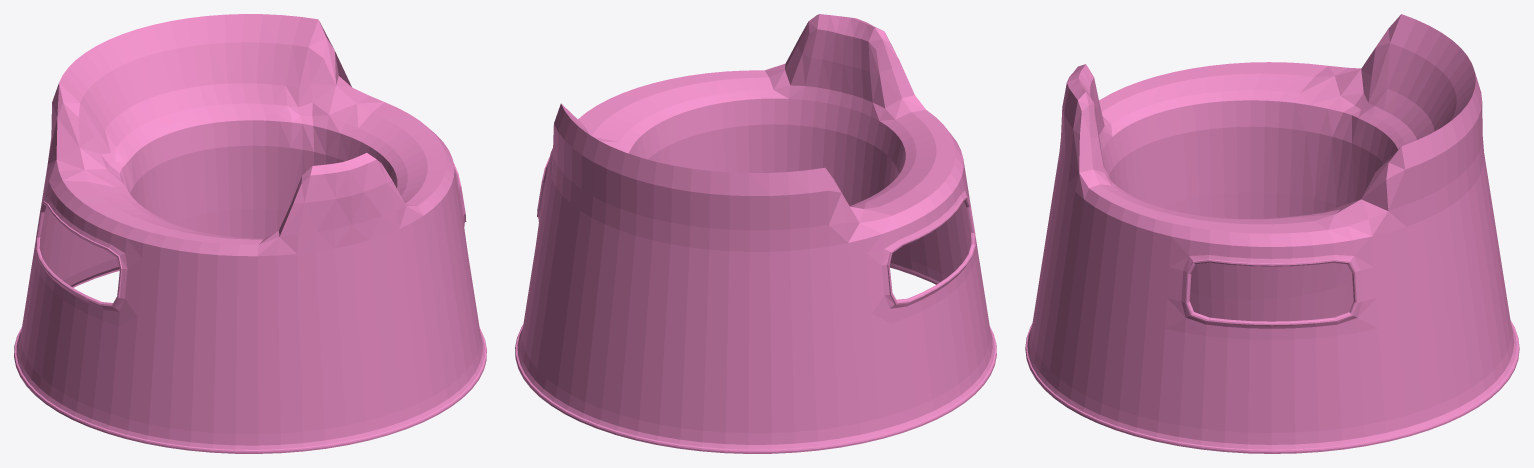
Rendered from sweethome3d-blendswap-cc-0-potty.glb.
The picture shows the model from 3 angles, left to right: view 1: azimuth 30°, elevation 25°; view 2: azimuth 150°, elevation 25°; view 3: azimuth 270°, elevation 25°; orthographic projection. The views are drawn at different scales.
Parts seen in each view (by area): view 1: potty_Cylinder; view 2: potty_Cylinder; view 3: potty_Cylinder.
Boxes of the visible parts, box(x1,y1,x2,y2) form: potty_Cylinder: box(14, 14, 486, 453); potty_Cylinder: box(515, 14, 996, 453); potty_Cylinder: box(1025, 14, 1519, 453).
Size of the model in its own units: 30.35 by 18.4 by 30.35.
